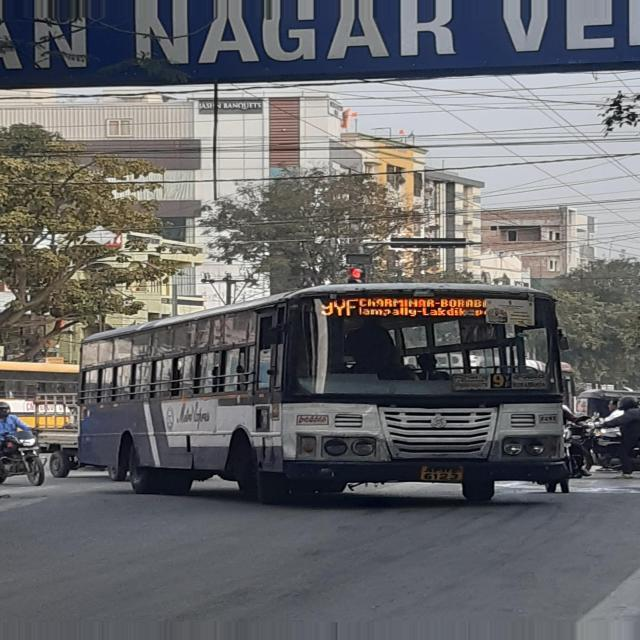Bus: (70, 278, 571, 502)
